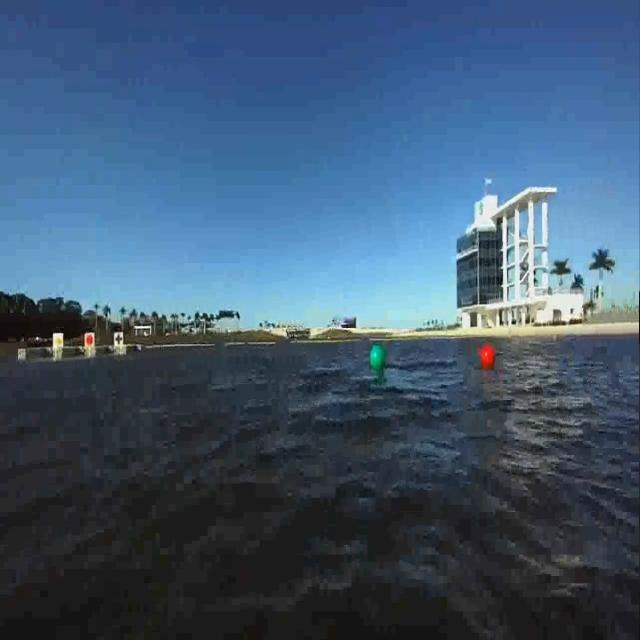green-buoy: (368, 344, 385, 371)
red-buoy: (481, 344, 496, 371)
